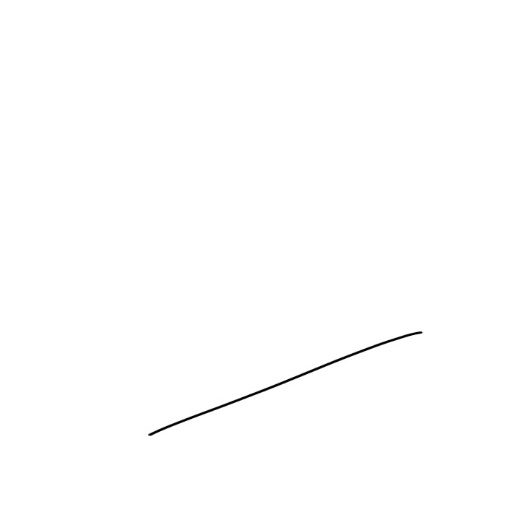line: (138, 326, 438, 446)
